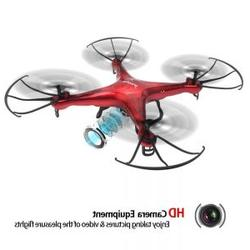drone: (3, 34, 245, 172)
